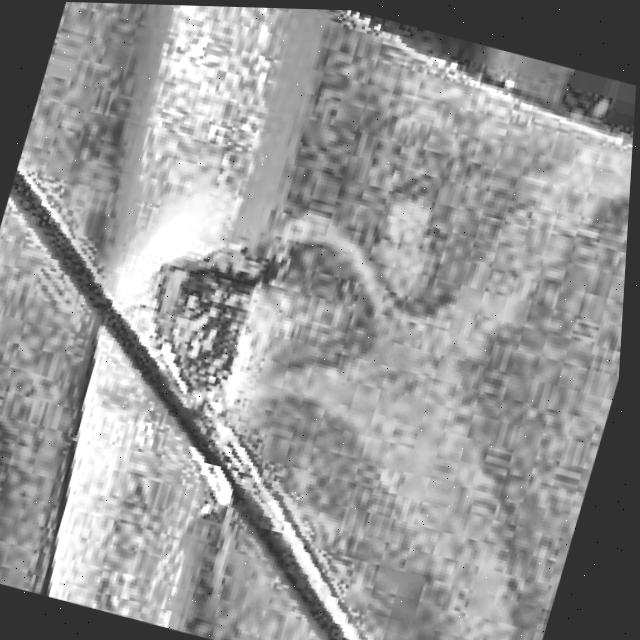door_scratch: (97, 222, 321, 494)
